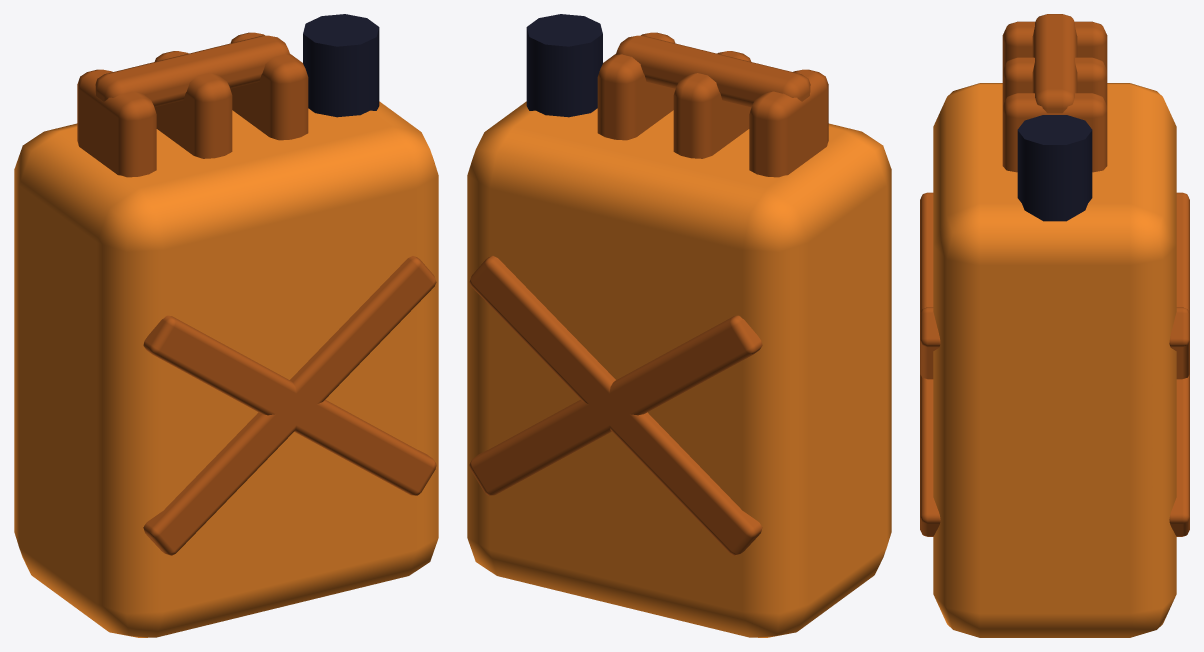
File: prop.props_workrooms.jerry_can.glb
The picture shows the model from 3 angles, left to right: view 1: azimuth 30°, elevation 25°; view 2: azimuth 150°, elevation 25°; view 3: azimuth 270°, elevation 25°; orthographic projection. The views are drawn at different scales.
Visible parts, largest first — view 1: prop.props_workrooms.jerry_can; view 2: prop.props_workrooms.jerry_can; view 3: prop.props_workrooms.jerry_can.
Part boxes in pixels (bbox=[...]): prop.props_workrooms.jerry_can: bbox=[14, 14, 438, 637]; prop.props_workrooms.jerry_can: bbox=[467, 14, 891, 637]; prop.props_workrooms.jerry_can: bbox=[920, 14, 1189, 637].
Bounding box in the file's own units: 0.2 × 0.3 × 0.144.
